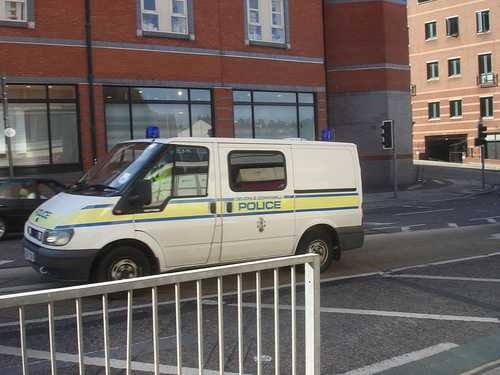Police Car: (15, 126, 378, 286)
